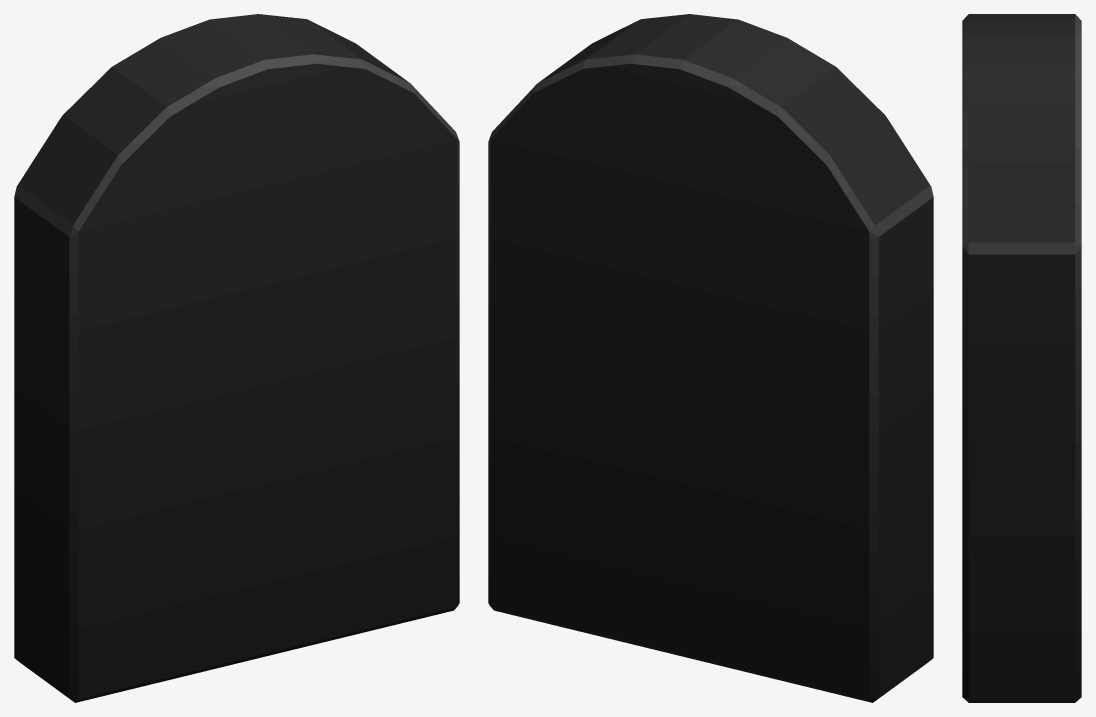
File: TombStone.fbx
The picture shows the model from 3 angles, left to right: view 1: azimuth 30°, elevation 25°; view 2: azimuth 150°, elevation 25°; view 3: azimuth 270°, elevation 25°; orthographic projection. The views are drawn at different scales.
Parts seen in each view (by area): view 1: Tombstone; view 2: Tombstone; view 3: Tombstone.
Part boxes in pixels (box(x1,y1,x2,y2)): Tombstone: box(14, 14, 459, 702); Tombstone: box(488, 14, 933, 702); Tombstone: box(962, 14, 1081, 702).
Size of the model in its own units: 71.4 by 104 by 19.59.
1 material, 1 textured.
